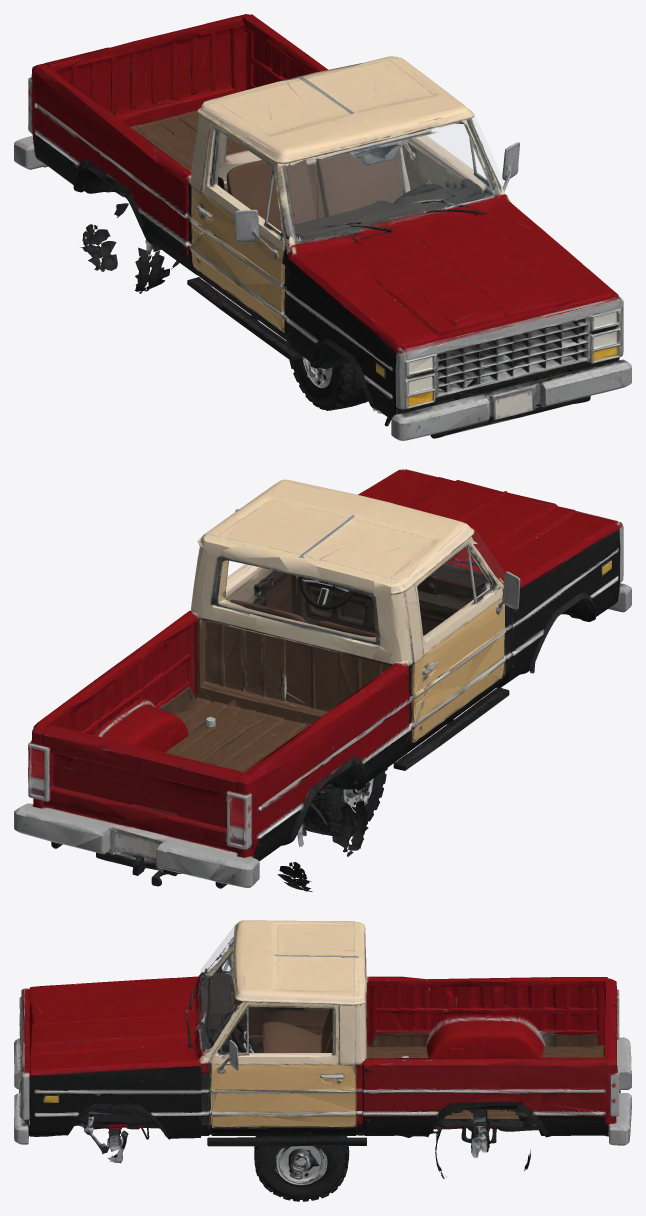
The model's file is truck.glb.
3 views of the same model, one above another, from view 1: azimuth 30°, elevation 25°; view 2: azimuth 150°, elevation 25°; view 3: azimuth 270°, elevation 25° (orthographic). The views are drawn at different scales.
Visible parts, largest first — view 1: body, glass, wheel_r1, wheel_f1; view 2: body, wheel_r1, interior, glass; view 3: body, wheel_r0, glass, wheel_f0, interior.
Part boxes in pixels (left/top/right/bottom): body: left=14, top=14, right=631, bottom=440; glass: left=281, top=114, right=505, bottom=244; wheel_r1: left=286, top=341, right=367, bottom=410; wheel_f1: left=288, top=342, right=341, bottom=409; body: left=14, top=469, right=631, bottom=891; wheel_r1: left=303, top=768, right=387, bottom=834; interior: left=300, top=576, right=354, bottom=609; glass: left=446, top=528, right=504, bottom=577; body: left=14, top=920, right=631, bottom=1178; wheel_r0: left=254, top=1135, right=349, bottom=1201; glass: left=200, top=926, right=236, bottom=1050; wheel_f0: left=256, top=1136, right=345, bottom=1200; interior: left=222, top=1015, right=257, bottom=1052.
Size of the model in its own units: 2.28 by 2.3 by 5.38.
Materials: 6 (2 with a texture image).
